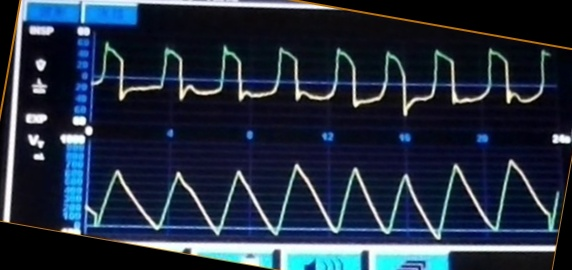Premature_cycling Flow: (95, 40, 536, 122)
Premature_cycling Volume: (90, 154, 543, 238)
